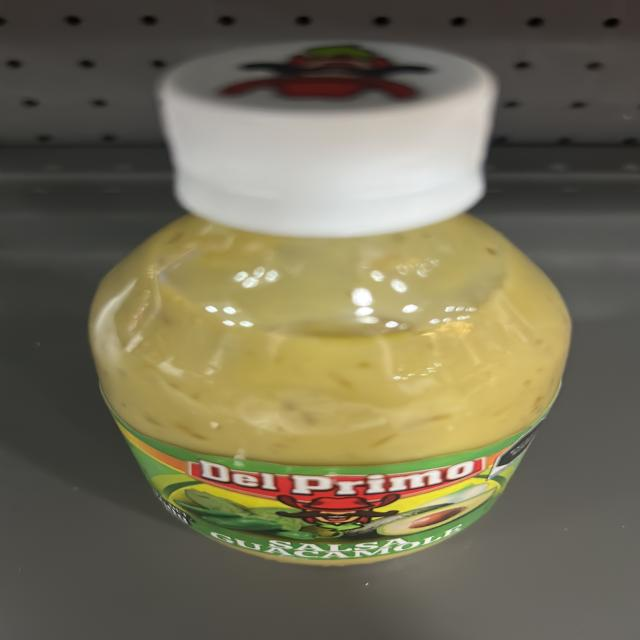delPrimoSalsa: (99, 44, 525, 554)
